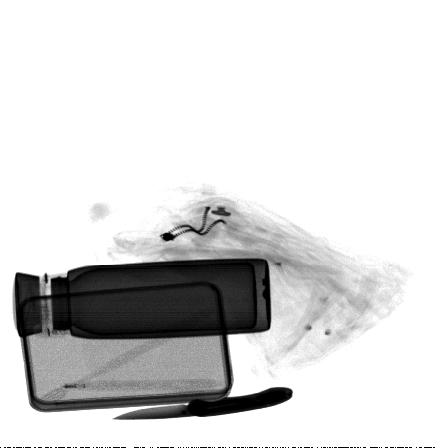Knife: (110, 386, 294, 421)
